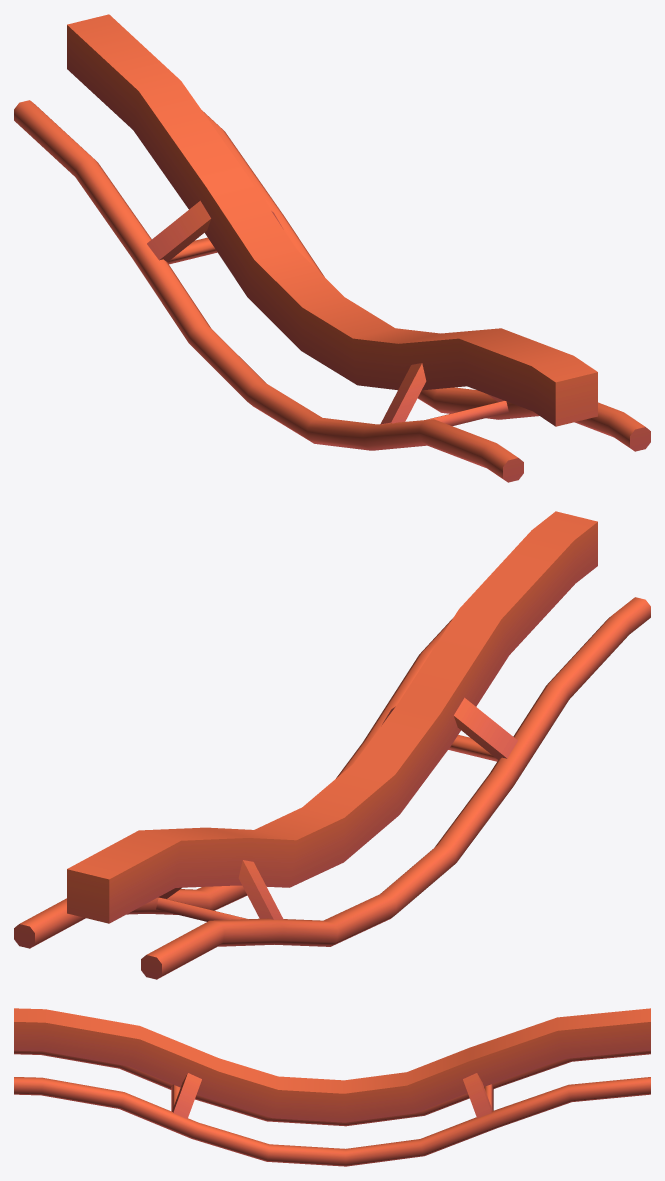
The model's file is coaster-hanging-straight-bump-down.glb.
3 renders of one model, top to bottom at view 1: azimuth 30°, elevation 25°; view 2: azimuth 150°, elevation 25°; view 3: azimuth 270°, elevation 25°, orthographic. The views are drawn at different scales.
Parts seen in each view (by area): view 1: coaster-hanging-straight-bump-down; view 2: coaster-hanging-straight-bump-down; view 3: coaster-hanging-straight-bump-down.
Boxes of the visible parts, box(x1,y1,x2,y2) form: coaster-hanging-straight-bump-down: box(14, 14, 650, 482); coaster-hanging-straight-bump-down: box(14, 511, 650, 979); coaster-hanging-straight-bump-down: box(14, 1008, 650, 1166).
Bounding box in the file's own units: 0.6997 × 0.8985 × 4.
Materials: 1 (1 with a texture image).
